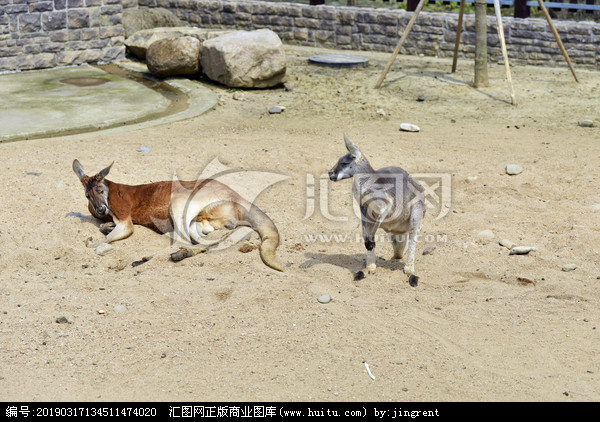kangaroo: (70, 155, 288, 282), (325, 135, 428, 293)
